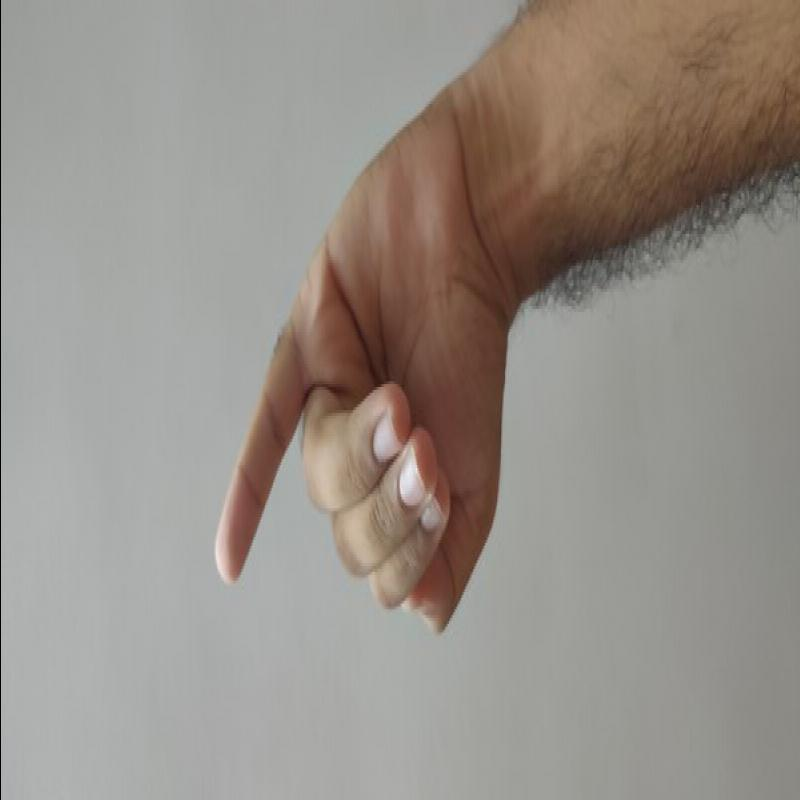Kartharee Mukham: (191, 120, 522, 659)
